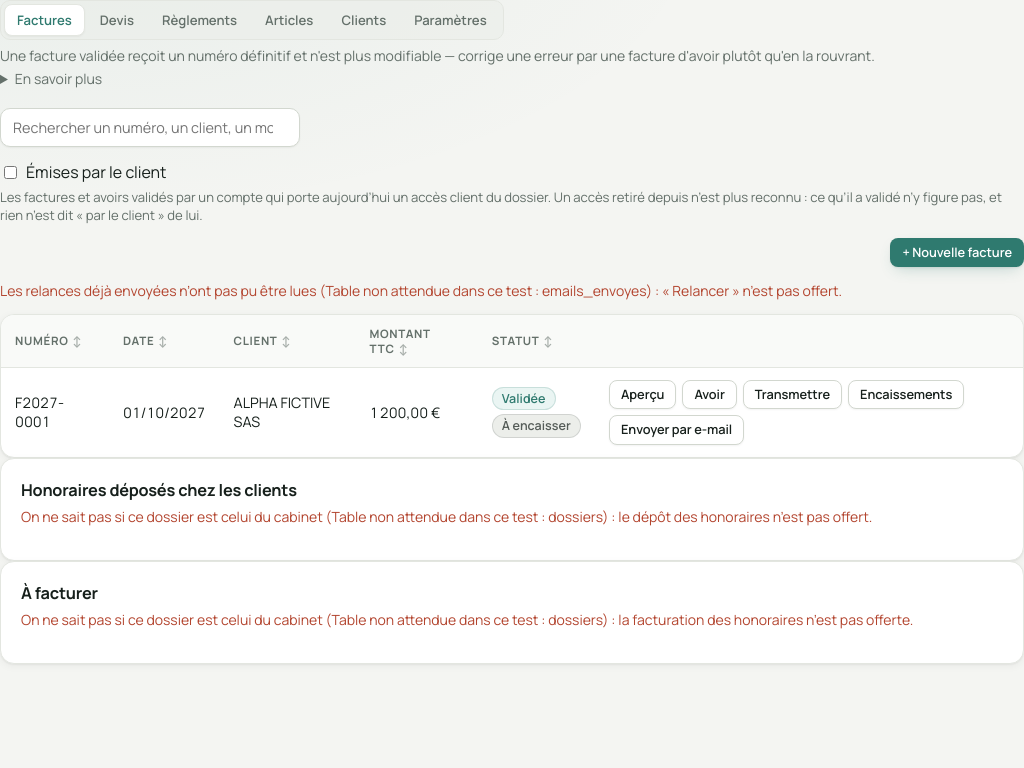
Test case: Paramètres dans l’onglet Factures — cabinet › « Paramètres » montre la courante du dossier, « Factures » la rend
The image size is (1024, 768).
Check: the text "F2027-0001" is shown, box x1=15 y1=393 x2=64 y2=431
What coordinates should you click on to do the following:
click the tab "Paramètres"
I would click on:
 (450, 20)
Its box is x1=401 y1=4 x2=500 y2=36.
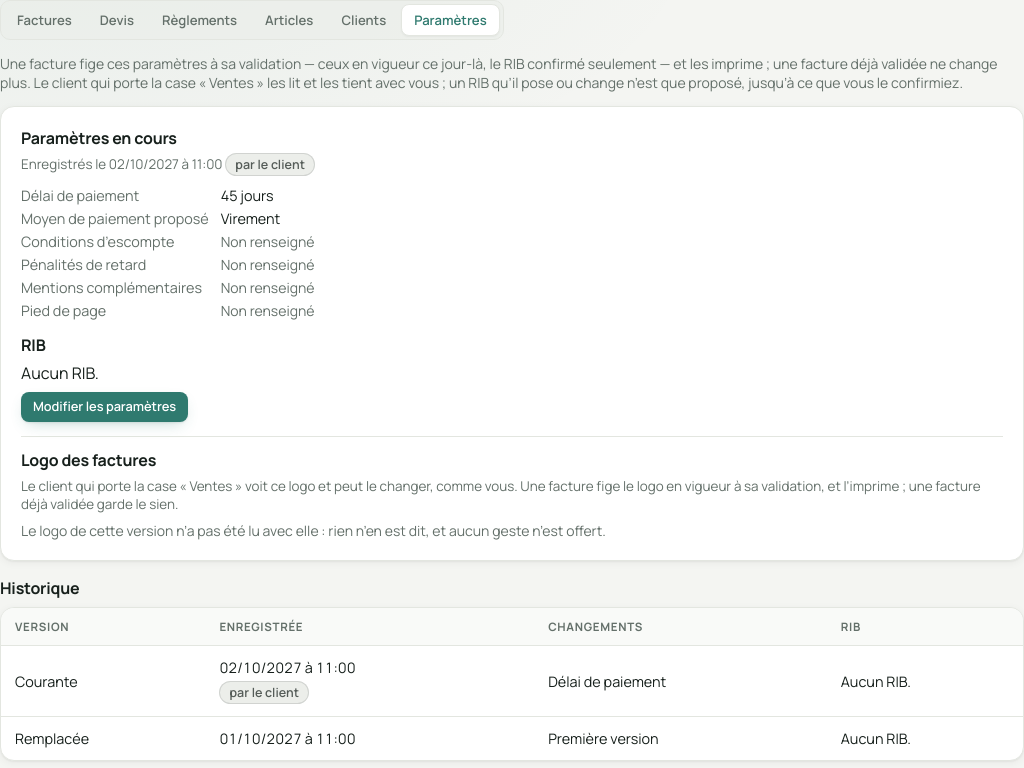
Check: the heading "Paramètres en cours" is shown, box x1=21 y1=127 x2=177 y2=149
Check: the text "F2027-0001" is gone
What coordinates should you click on to do the following:
click the tab "Factures"
I would click on:
 (44, 20)
Its box is x1=4 y1=4 x2=85 y2=36.
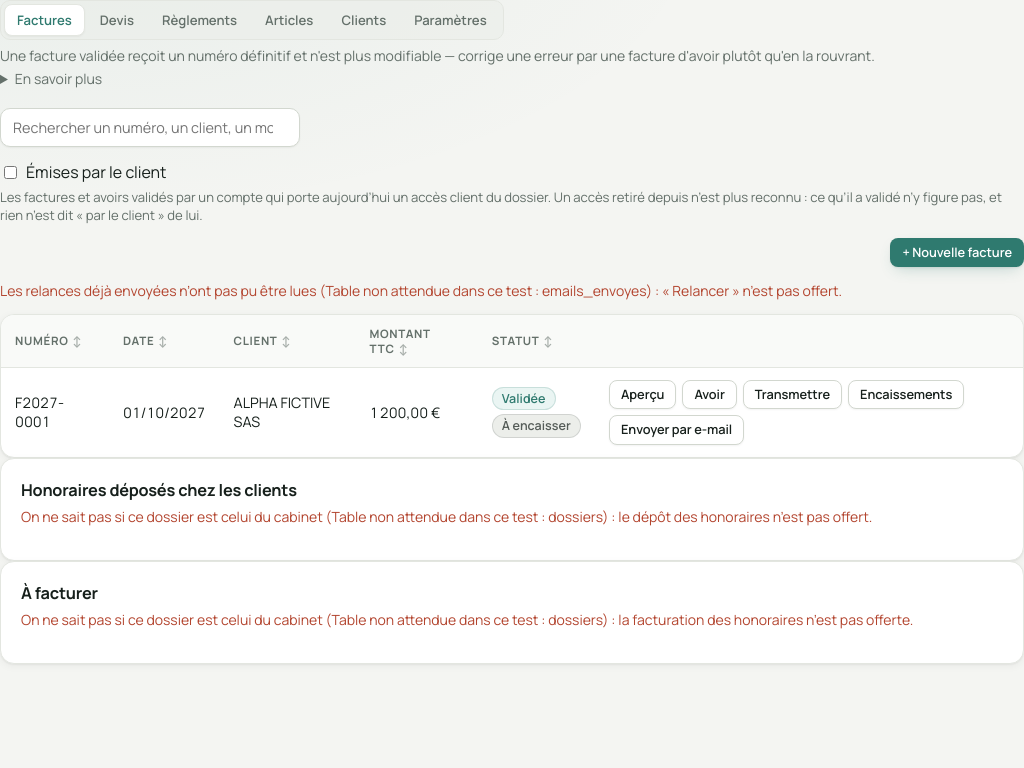
Check: the text "F2027-0001" is shown, box x1=15 y1=393 x2=64 y2=431
Check: the heading "Paramètres en cours" is gone
